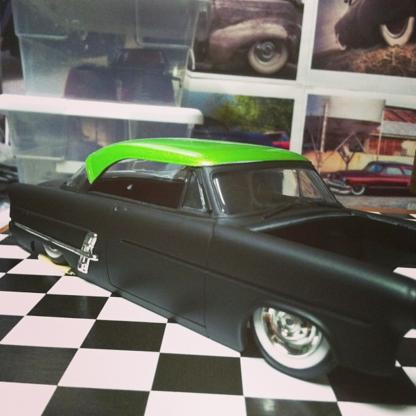Car: (6, 135, 415, 381), (23, 0, 307, 74), (336, 2, 415, 52), (322, 159, 416, 200)
